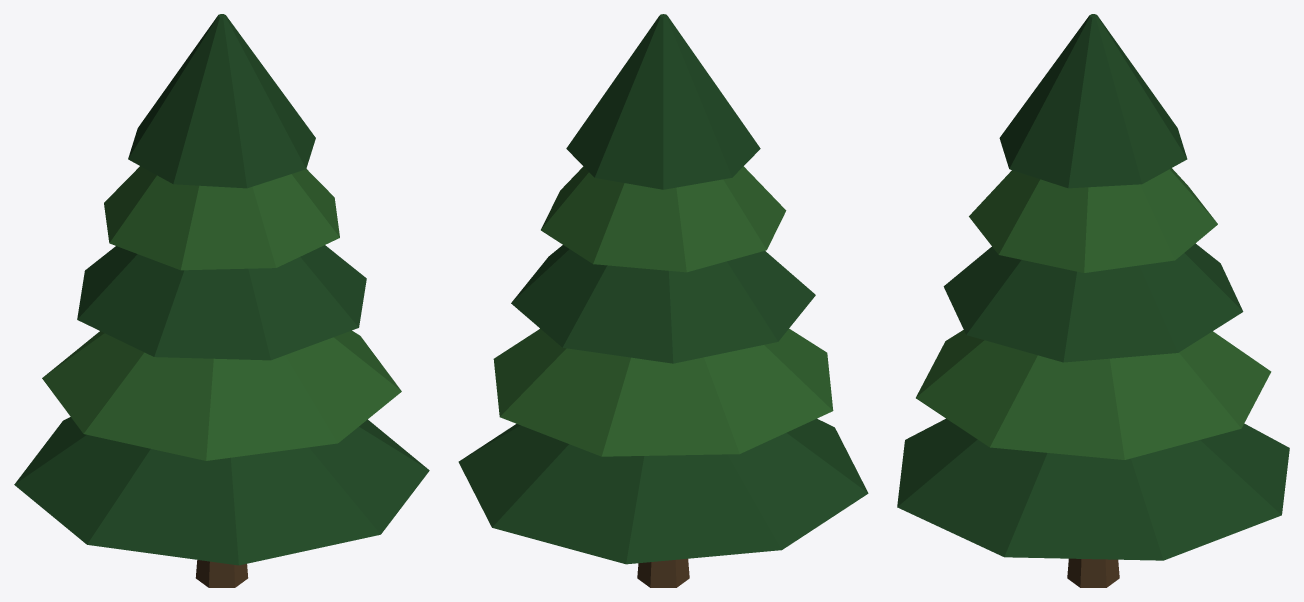
The model's file is tree_pine_1.glb.
The picture shows the model from 3 angles, left to right: view 1: azimuth 30°, elevation 25°; view 2: azimuth 150°, elevation 25°; view 3: azimuth 270°, elevation 25°; orthographic projection.
Visible parts, largest first — view 1: tree_pine_1; view 2: tree_pine_1; view 3: tree_pine_1.
Boxes of the visible parts, x1,y1,x2,y2 form: tree_pine_1: (14, 14, 429, 587); tree_pine_1: (458, 14, 868, 587); tree_pine_1: (897, 14, 1289, 587).
Size of what is drawn, in the model's own units: 4.73 by 7.48 by 4.73.
